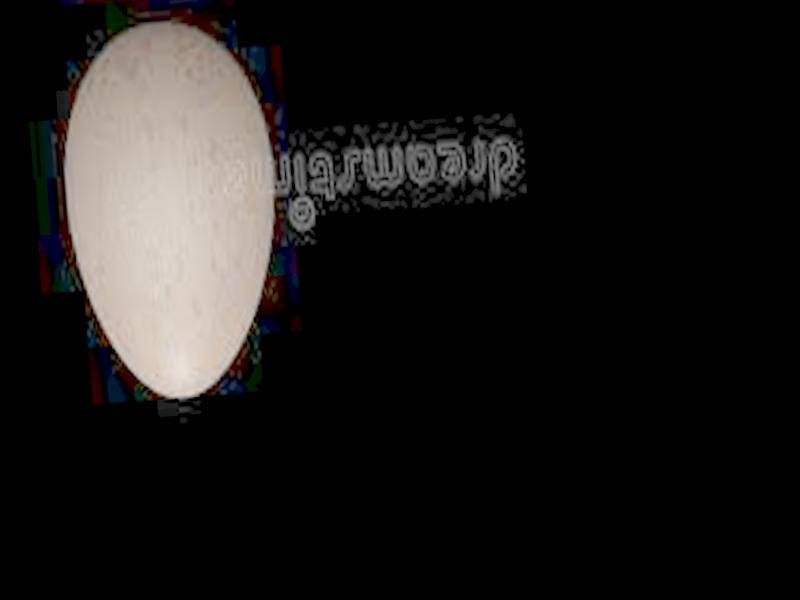Eggs: (53, 14, 287, 407)
